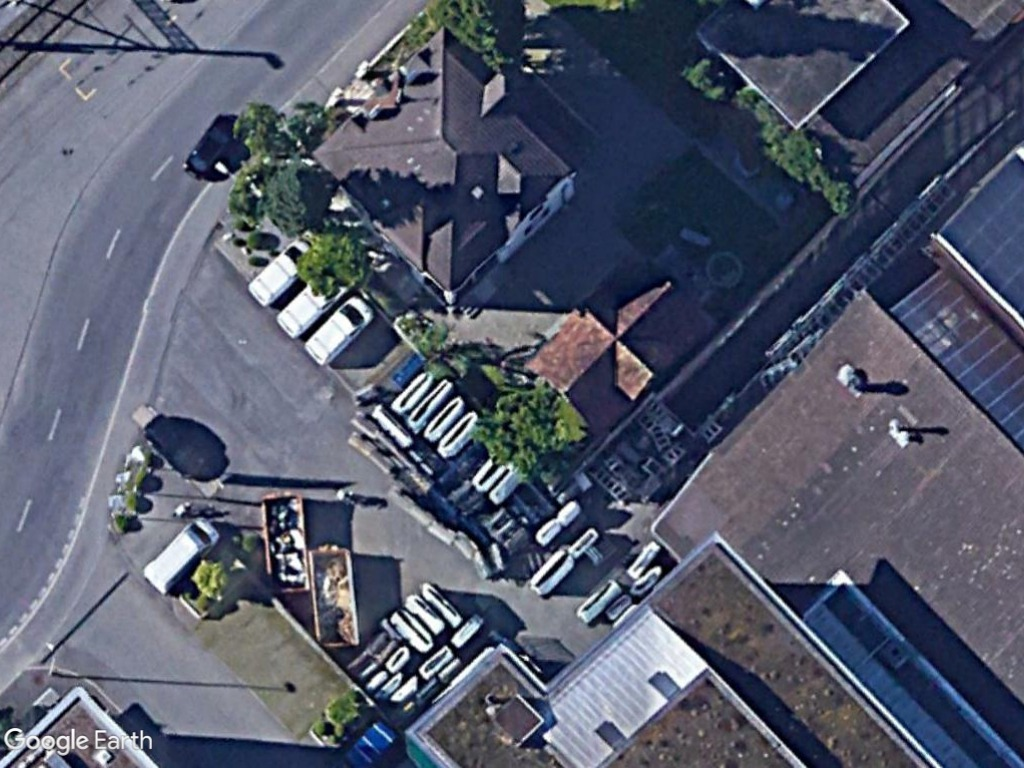van: (141, 513, 222, 598), (301, 292, 376, 370)
